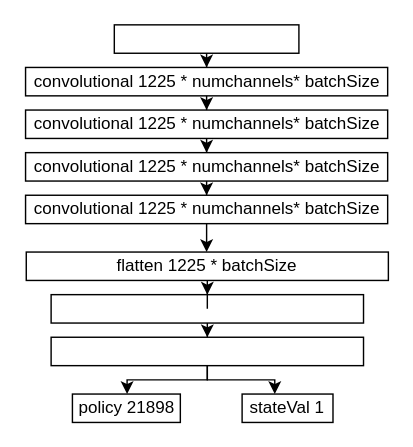
Some shapes in this 413 by 447 pixel diagram are drawn without their labels. Each missing label, with the box of its shape:
dropout 1024 * batchSize: (50, 293, 364, 323)
dropout 512* batchSize: (50, 336, 364, 366)
input 1225 x batchSize: (113, 23, 299, 53)
